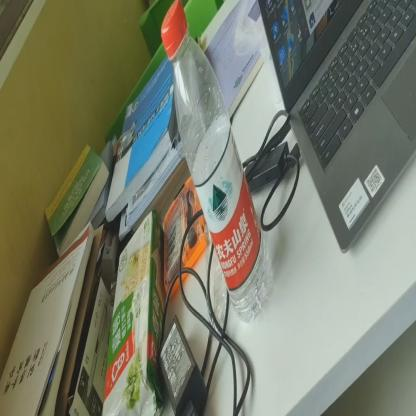Glass Bottle: (159, 0, 269, 319)
